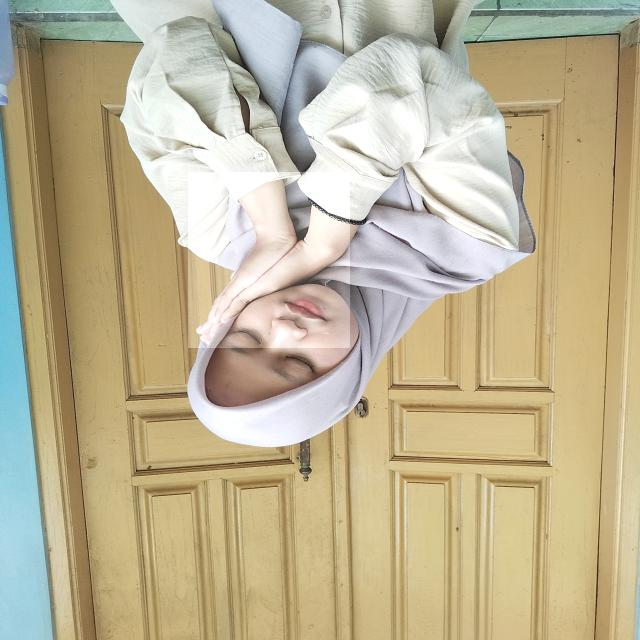tidur: (188, 172, 350, 348)
